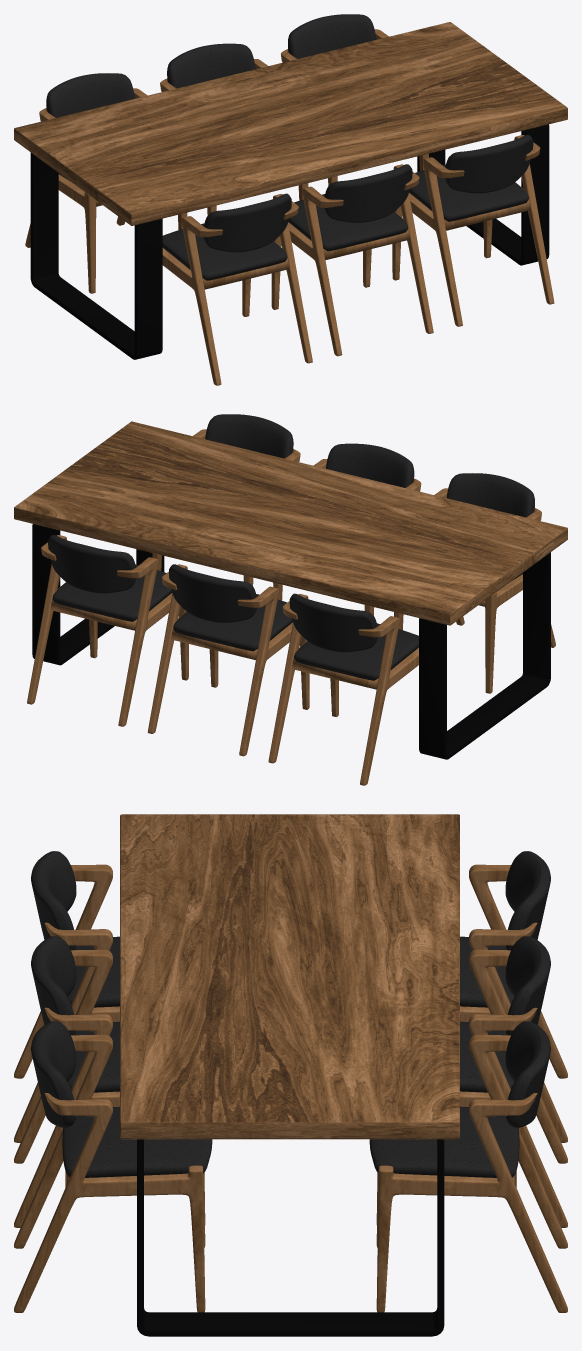
Rendered from sleek_modern_dining_table_set.glb.
3 renders of one model, top to bottom at view 1: azimuth 30°, elevation 25°; view 2: azimuth 150°, elevation 25°; view 3: azimuth 270°, elevation 25°, orthographic. The views are drawn at different scales.
Parts seen in each view (by area): view 1: Table, Chair.004, Chair.003, Chair, Chair.002, Chair.001, Chair.005; view 2: Table, Chair.001, Chair.005, Chair.002, Chair, Chair.004, Chair.003; view 3: Table, Chair.005, Chair.003, Chair.001, Chair.004, Chair.002, Chair.
Boxes of the visible parts, x1,y1,x2,y2 form: Table: (14, 22, 567, 359); Chair.004: (271, 164, 433, 356); Chair.003: (392, 134, 554, 326); Chair: (162, 193, 312, 385); Chair.002: (25, 73, 187, 293); Chair.001: (160, 43, 308, 215); Chair.005: (281, 14, 428, 185); Table: (14, 421, 567, 759); Chair.001: (147, 564, 309, 756); Chair.005: (27, 535, 188, 726); Chair.002: (268, 593, 418, 785); Chair: (394, 473, 555, 693); Chair.004: (273, 443, 421, 615); Chair.003: (152, 414, 300, 585); Table: (120, 814, 459, 1336); Chair.005: (369, 1021, 567, 1312); Chair.003: (14, 1021, 212, 1312); Chair.001: (376, 936, 567, 1227); Chair.004: (14, 936, 205, 1227); Chair.002: (460, 851, 567, 1142); Chair: (14, 851, 119, 1142).
Size of the model in its own units: 3.01 by 1.08 by 2.29.
Materials: 2 (2 with a texture image).
